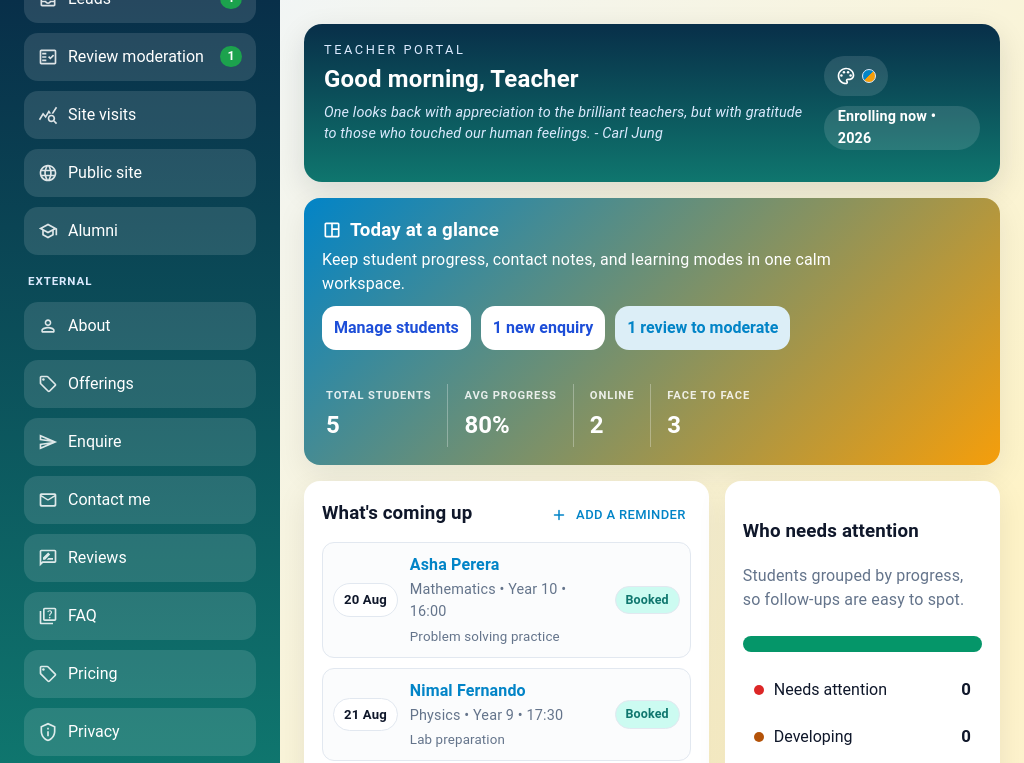
Test case: public pages › reaches the offerings page from the sidebar
(page scrolled)
Click the button "Offerings".
click(140, 384)  # box [24,360,256,408]
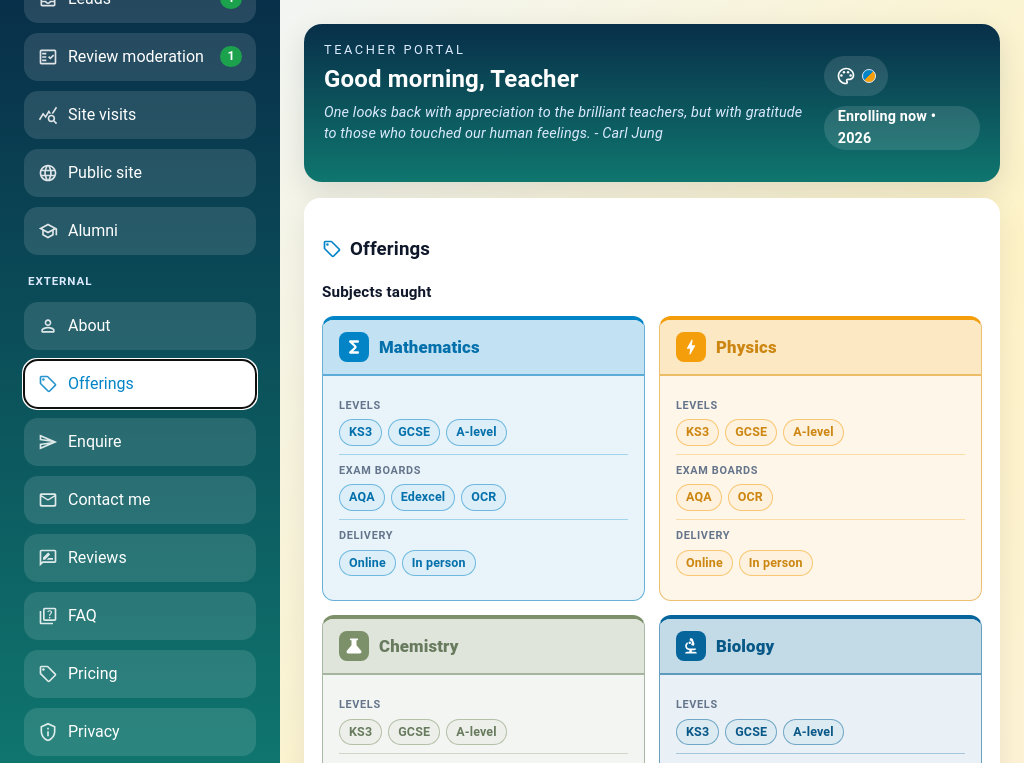
expect the heading "Offerings" is shown: met, box [322,238,430,260]
